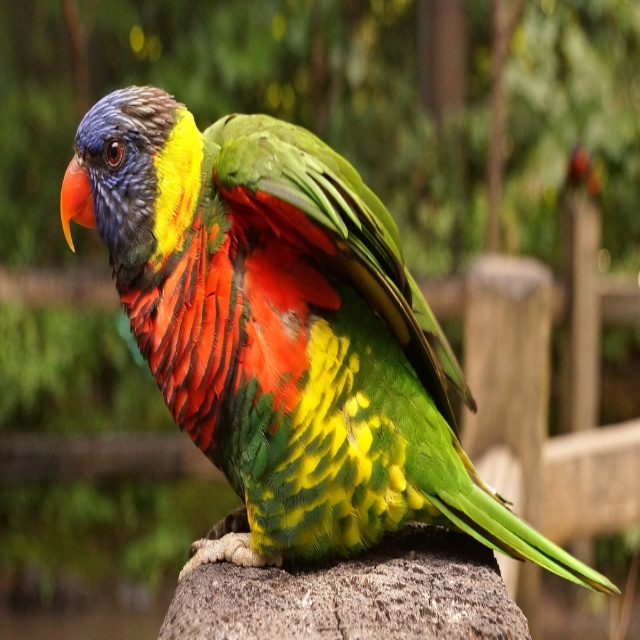Parrot: (60, 85, 623, 601)
